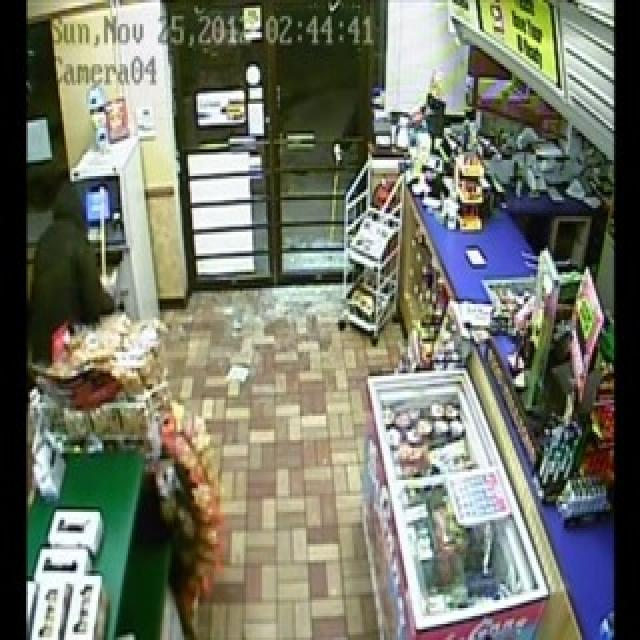thief: (31, 193, 135, 380)
